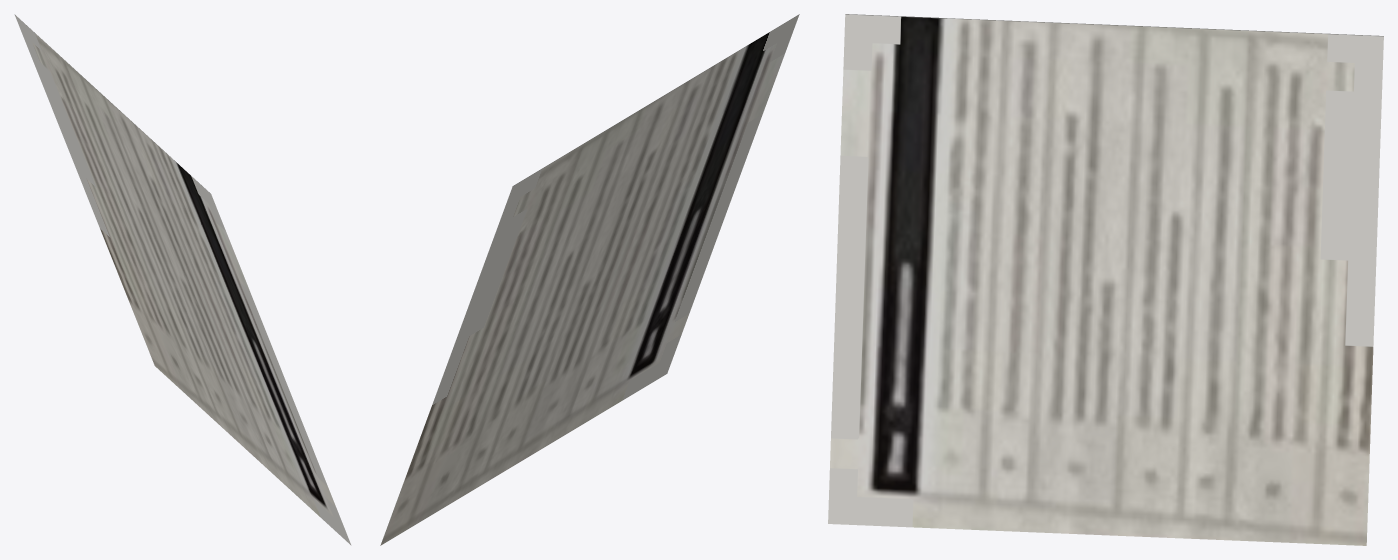
File: entity-sign-11.glb
3 views of the same model, side by side, from view 1: azimuth 30°, elevation 25°; view 2: azimuth 150°, elevation 25°; view 3: azimuth 270°, elevation 25° (orthographic). The views are drawn at different scales.
Parts seen in each view (by area): view 1: geometry_0; view 2: geometry_0; view 3: geometry_0.
Boxes of the visible parts, x1=… form: geometry_0: x1=14, y1=14, x2=351, y2=545; geometry_0: x1=380, y1=14, x2=799, y2=545; geometry_0: x1=828, y1=14, x2=1383, y2=545.
Size of the model in its own units: 0.0835 by 0.1775 by 0.205.
1 material, 1 textured.
